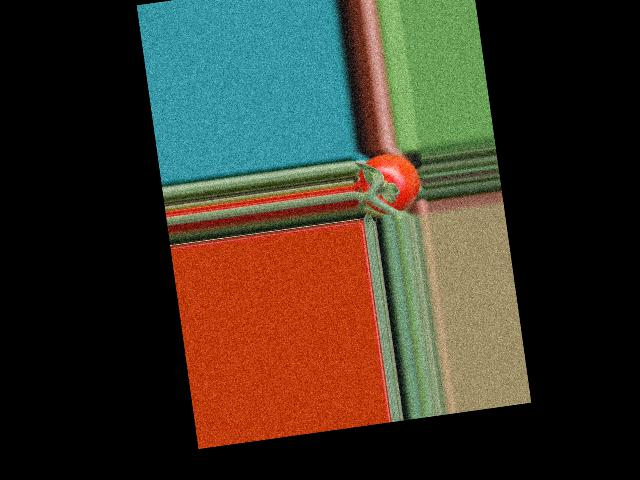tomato: (351, 149, 423, 218)
